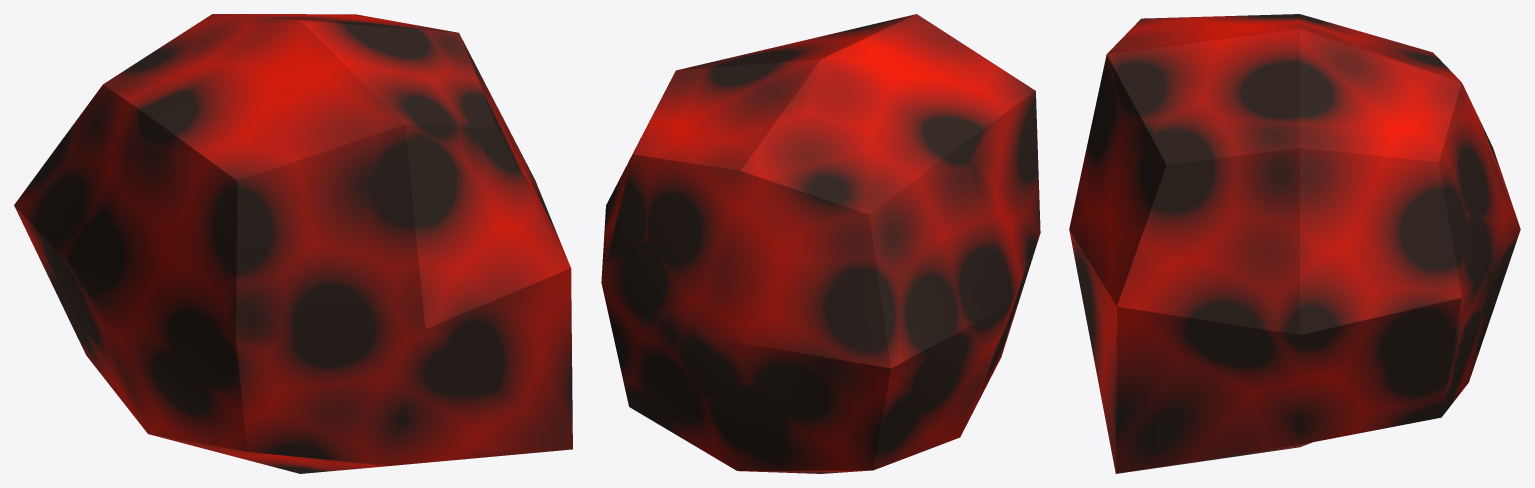
The model's file is RedGem.fbx.
The picture shows the model from 3 angles, left to right: view 1: azimuth 30°, elevation 25°; view 2: azimuth 150°, elevation 25°; view 3: azimuth 270°, elevation 25°; orthographic projection. The views are drawn at different scales.
Visible parts, largest first — view 1: Cube.003; view 2: Cube.003; view 3: Cube.003.
Part boxes in pixels (<box>): Cube.003: <box>14,14,572,473</box>; Cube.003: <box>601,14,1040,473</box>; Cube.003: <box>1069,14,1520,473</box>.
Bounding box in the file's own units: 0.2138 × 0.2093 × 0.2049.
1 material, 1 textured.
